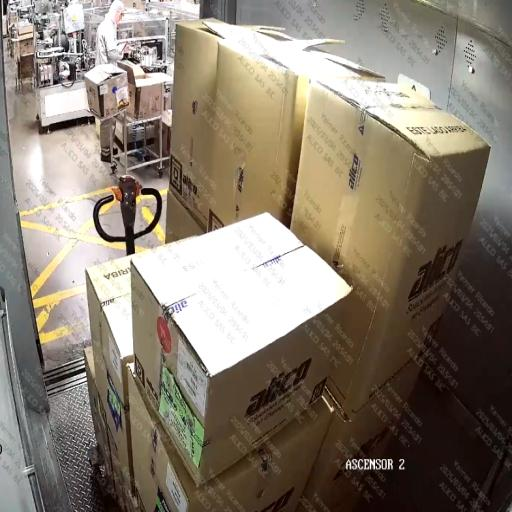Caja no amarrada: (62, 21, 492, 512)
